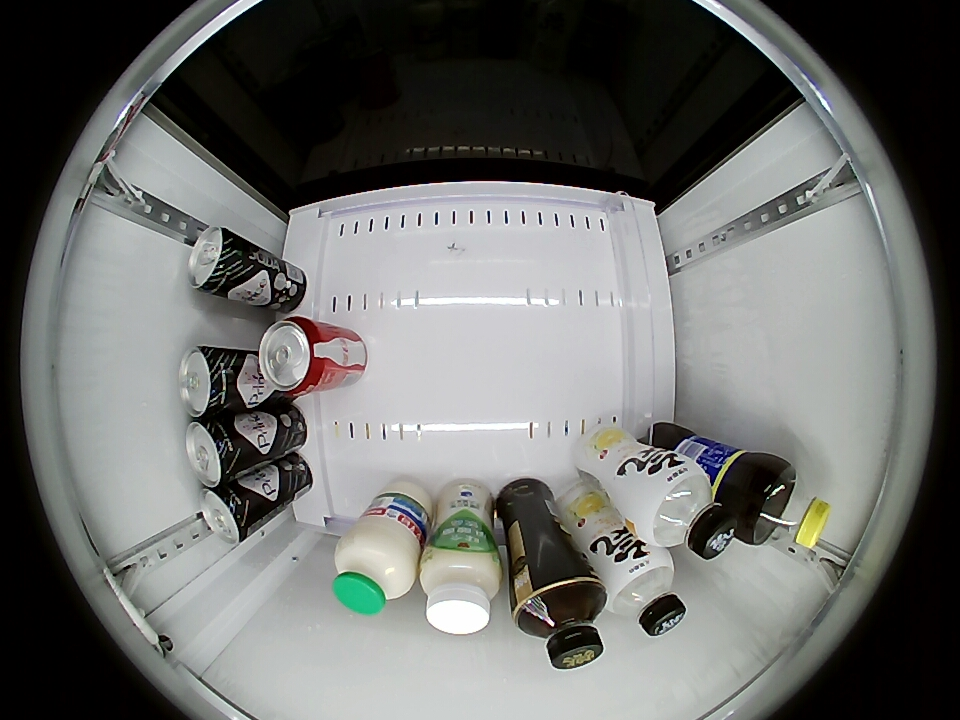baishikele: (747, 464, 832, 550)
kele: (258, 316, 327, 395)
liziyuan: (333, 517, 420, 616)
qingdaowangzi-1: (178, 345, 241, 418), (184, 417, 245, 487), (187, 226, 244, 296), (198, 485, 255, 544)
rancha-1: (513, 575, 607, 670)
yousuanru: (420, 544, 502, 635)
yuanqishui: (627, 459, 738, 560), (598, 546, 687, 636)
